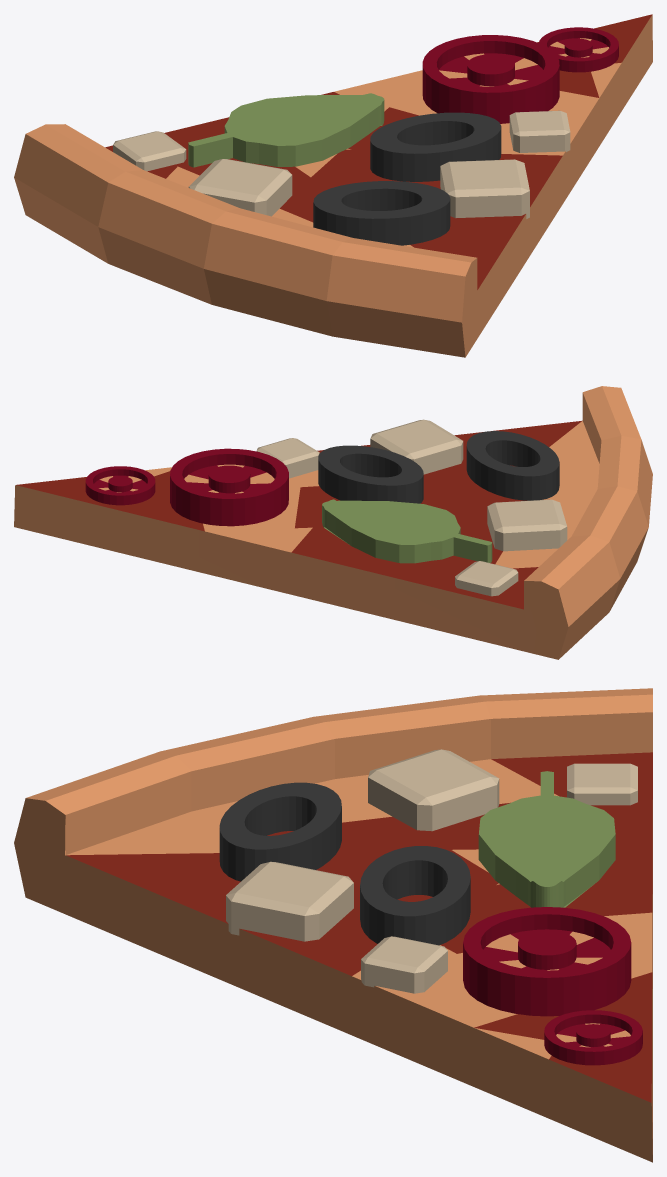
File: pizza_3_partyassets.fbx
3 renders of one model, top to bottom at view 1: azimuth 30°, elevation 25°; view 2: azimuth 150°, elevation 25°; view 3: azimuth 270°, elevation 25°, orthographic. The views are drawn at different scales.
Visible parts, largest first — view 1: pizza_3_partyassets, Cube.042, Cube.049, Cube.108, Cube.053, Cube.050; view 2: pizza_3_partyassets, Cube.053, Cube.042, Cube.108, Cube.049, Cube.050; view 3: pizza_3_partyassets, Cube.053, Cube.049, Cube.108, Cube.042, Cube.050.
Boxes of the visible parts, x1=… form: pizza_3_partyassets: x1=14, y1=14, x2=652, y2=357; Cube.042: x1=313, y1=112, x2=501, y2=245; Cube.049: x1=113, y1=110, x2=570, y2=218; Cube.108: x1=422, y1=27, x2=618, y2=123; Cube.053: x1=105, y1=14, x2=652, y2=289; Cube.050: x1=188, y1=93, x2=384, y2=167; pizza_3_partyassets: x1=14, y1=386, x2=652, y2=659; Cube.053: x1=16, y1=420, x2=582, y2=609; Cube.042: x1=318, y1=431, x2=559, y2=503; Cube.108: x1=85, y1=448, x2=288, y2=526; Cube.049: x1=256, y1=419, x2=567, y2=596; Cube.050: x1=322, y1=499, x2=492, y2=563; pizza_3_partyassets: x1=14, y1=688, x2=652, y2=1162; Cube.053: x1=66, y1=752, x2=652, y2=1102; Cube.049: x1=226, y1=749, x2=637, y2=993; Cube.108: x1=463, y1=907, x2=642, y2=1065; Cube.042: x1=219, y1=782, x2=470, y2=945; Cube.050: x1=478, y1=771, x2=615, y2=907.
Bounding box in the file's own units: 21.67 × 2.78 × 15.32.
